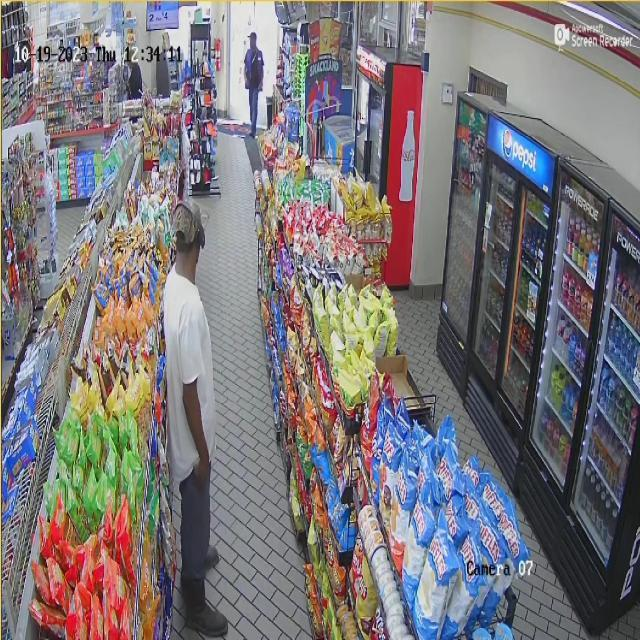Normal: (160, 180, 247, 640), (242, 27, 269, 140)
